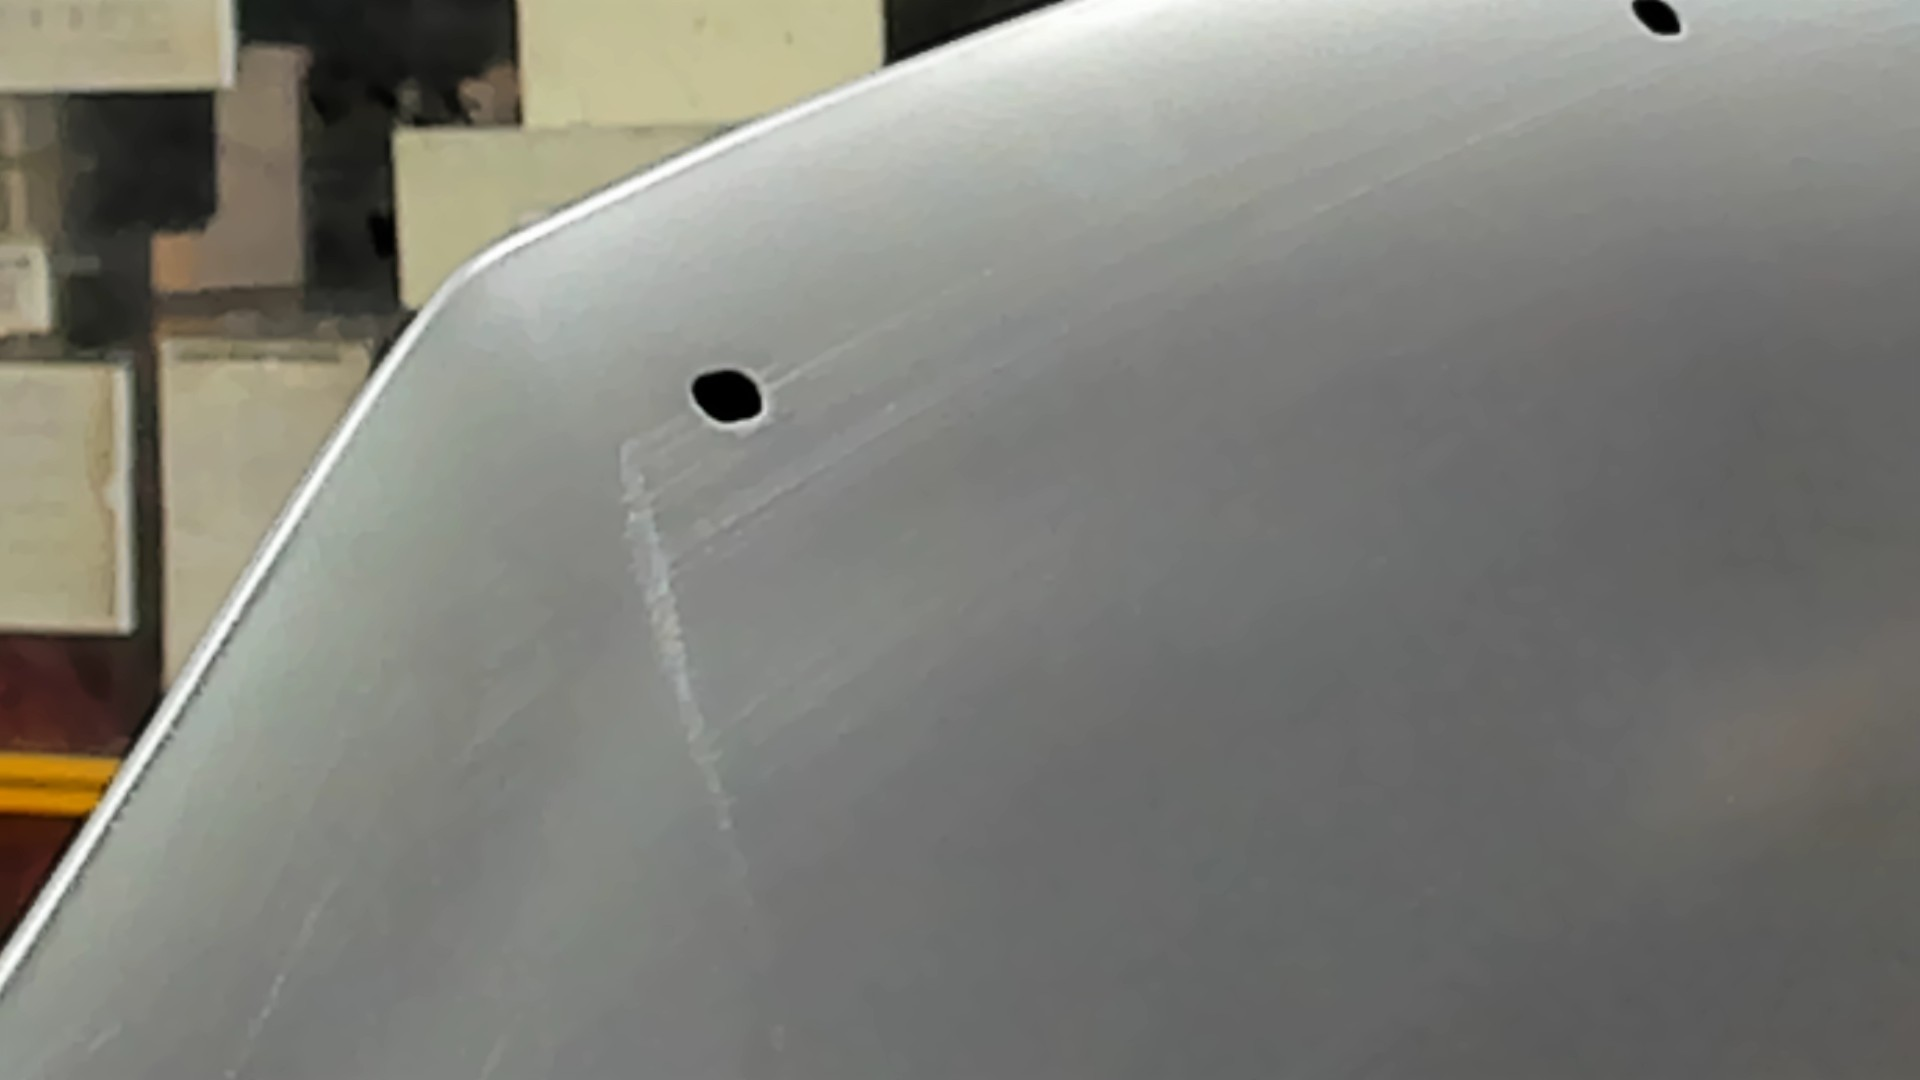amorfo: (678, 360, 777, 436), (1619, 1, 1696, 46)
